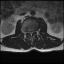CCS_normal: (30, 29, 32, 38)
LFS_severe_stenosis: (33, 29, 35, 34)
LLS_stenosis: (32, 29, 33, 35)
RFS_stenosis: (26, 29, 28, 35)
RLS_stenosis: (28, 30, 30, 35)
